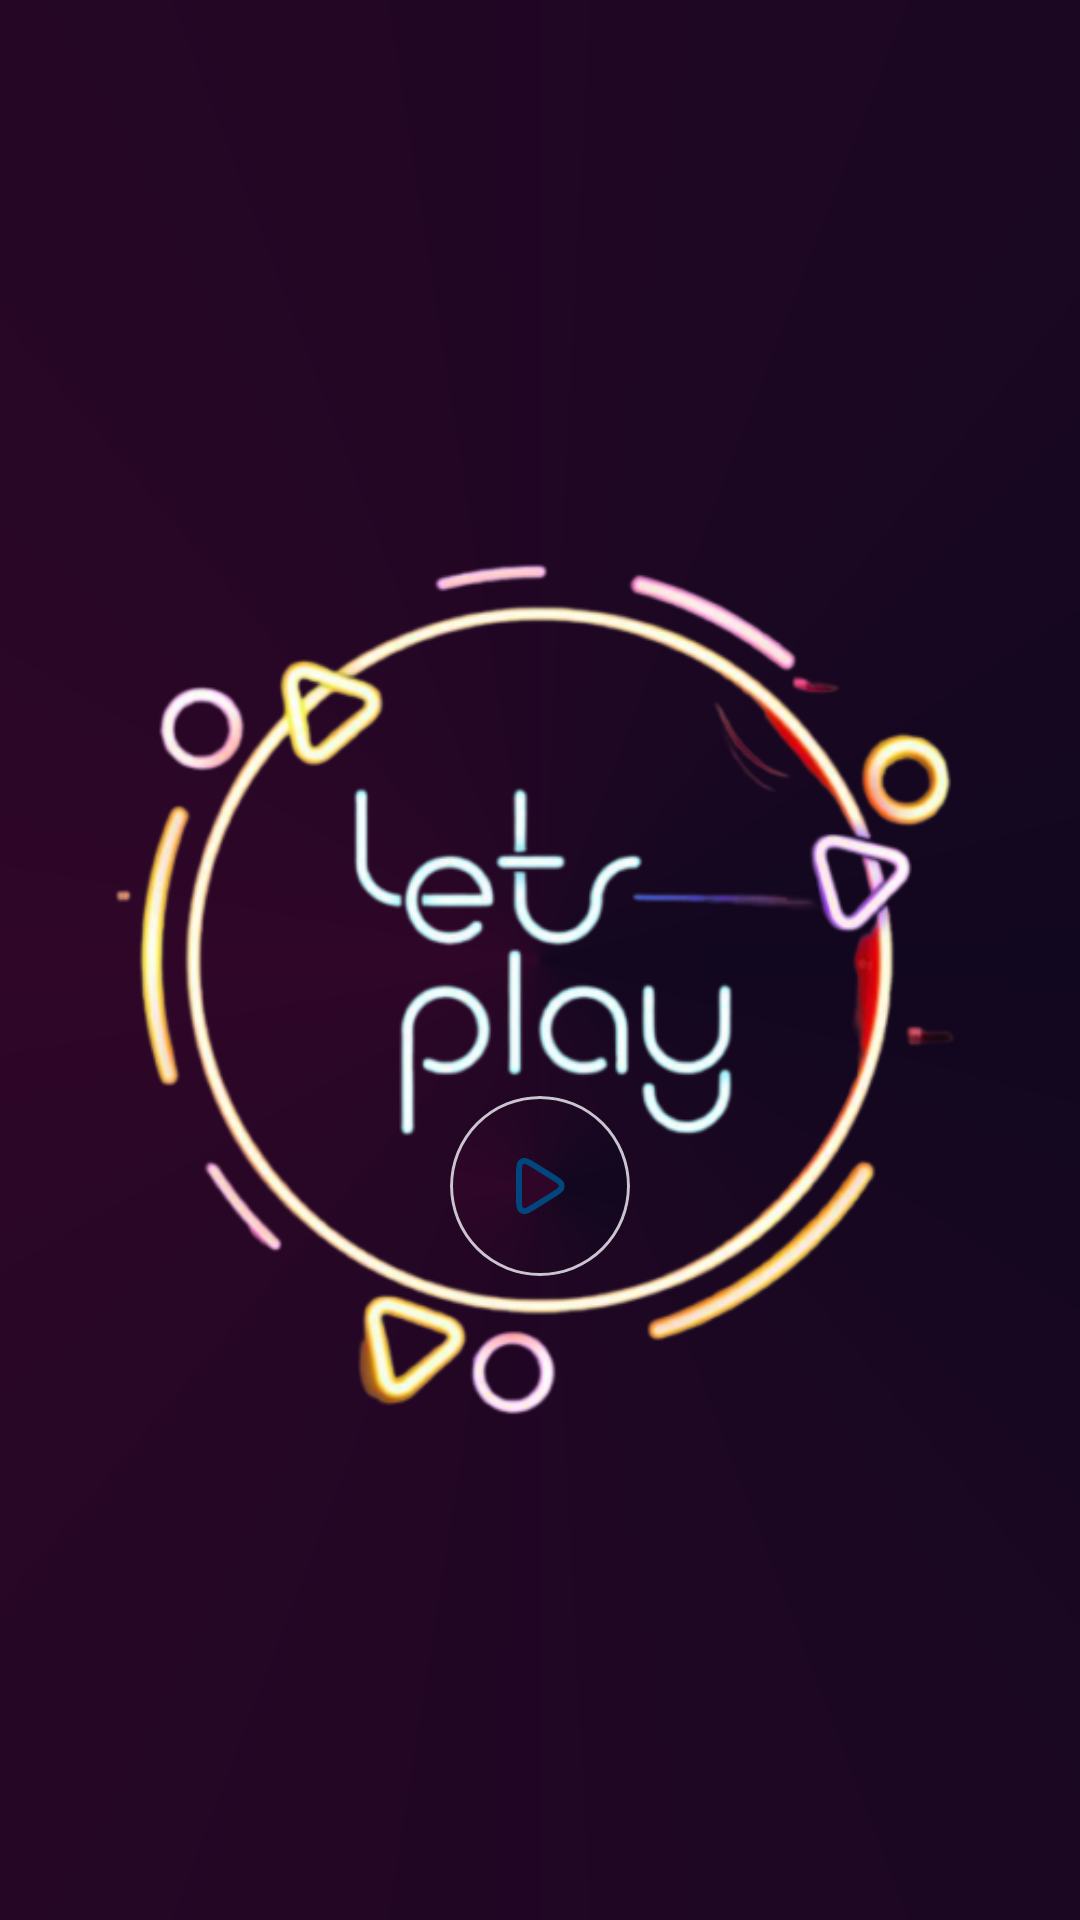

Icons on this 1080px x 1920px Android screen, each with its box as (x1, y1, x2, y2):
play: (450, 1096, 630, 1276)
